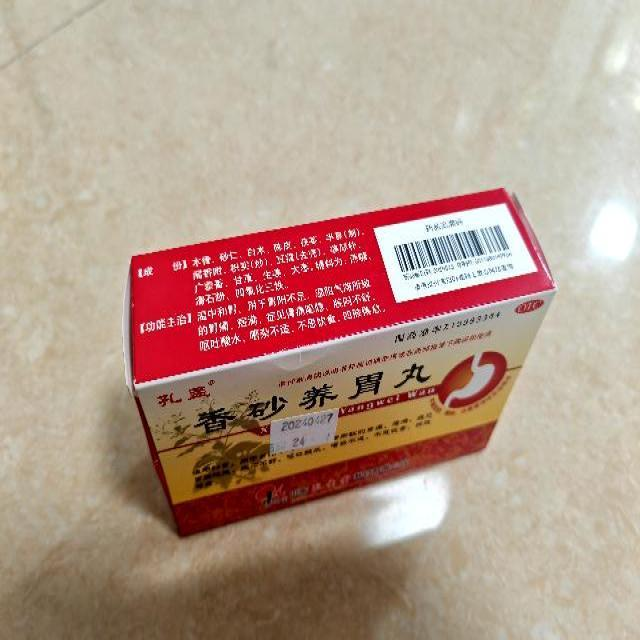box: (120, 185, 556, 540)
